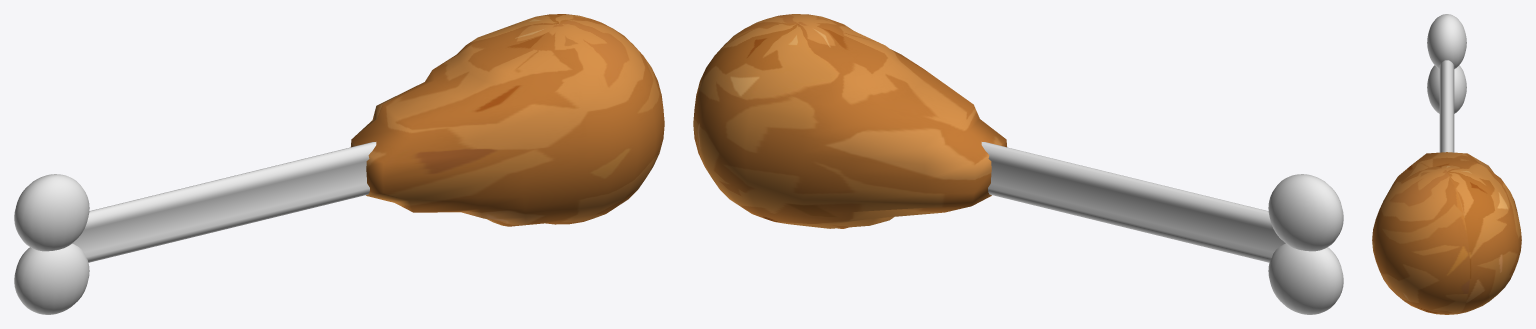
Rendered from Updated_Bone with chicken(1).fbx.
The picture shows the model from 3 angles, left to right: view 1: azimuth 30°, elevation 25°; view 2: azimuth 150°, elevation 25°; view 3: azimuth 270°, elevation 25°; orthographic projection. The views are drawn at different scales.
Visible parts, largest first — view 1: pSphere5, pCylinder1, pSphere2, pSphere1; view 2: pSphere5, pCylinder1, pSphere2, pSphere1; view 3: pSphere5, pSphere2, pCylinder1, pSphere1.
Part boxes in pixels (x1,y1,x2,y2): pSphere5: [351, 14, 664, 226]; pCylinder1: [72, 142, 376, 262]; pSphere2: [14, 174, 89, 251]; pSphere1: [14, 243, 89, 314]; pSphere5: [693, 14, 1006, 228]; pCylinder1: [981, 142, 1285, 262]; pSphere2: [1268, 174, 1343, 251]; pSphere1: [1268, 243, 1343, 314]; pSphere5: [1372, 152, 1521, 314]; pSphere2: [1427, 14, 1466, 68]; pCylinder1: [1439, 60, 1454, 152]; pSphere1: [1427, 65, 1466, 113].
Bounding box in the file's own units: 18.09 × 5.21 × 5.21.
